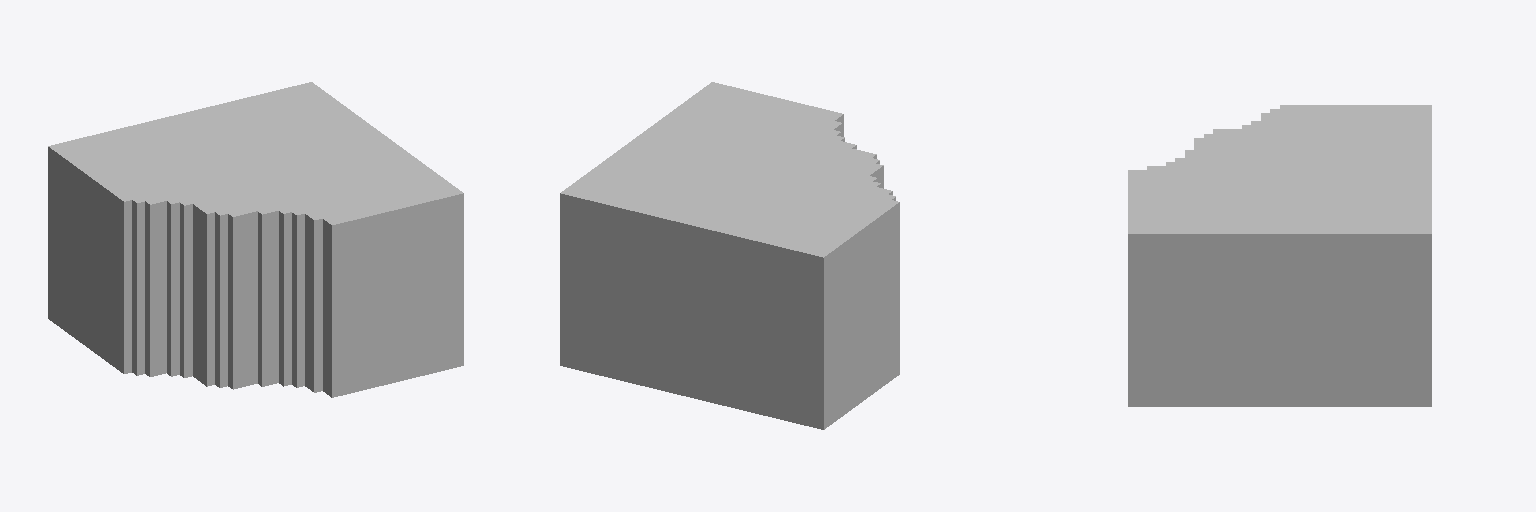
File: pondtile-7.obj
The picture shows the model from 3 angles: view 1: azimuth 30°, elevation 25°; view 2: azimuth 150°, elevation 25°; view 3: azimuth 270°, elevation 25°; orthographic projection.
Parts seen in each view (by area): view 1: pondtile-7; view 2: pondtile-7; view 3: pondtile-7.
Boxes of the visible parts, x1,y1,x2,y2 form: pondtile-7: [48, 82, 463, 397]; pondtile-7: [560, 82, 899, 429]; pondtile-7: [1128, 105, 1431, 406].
Bounding box in the file's own units: 3.2 × 2 × 3.2.